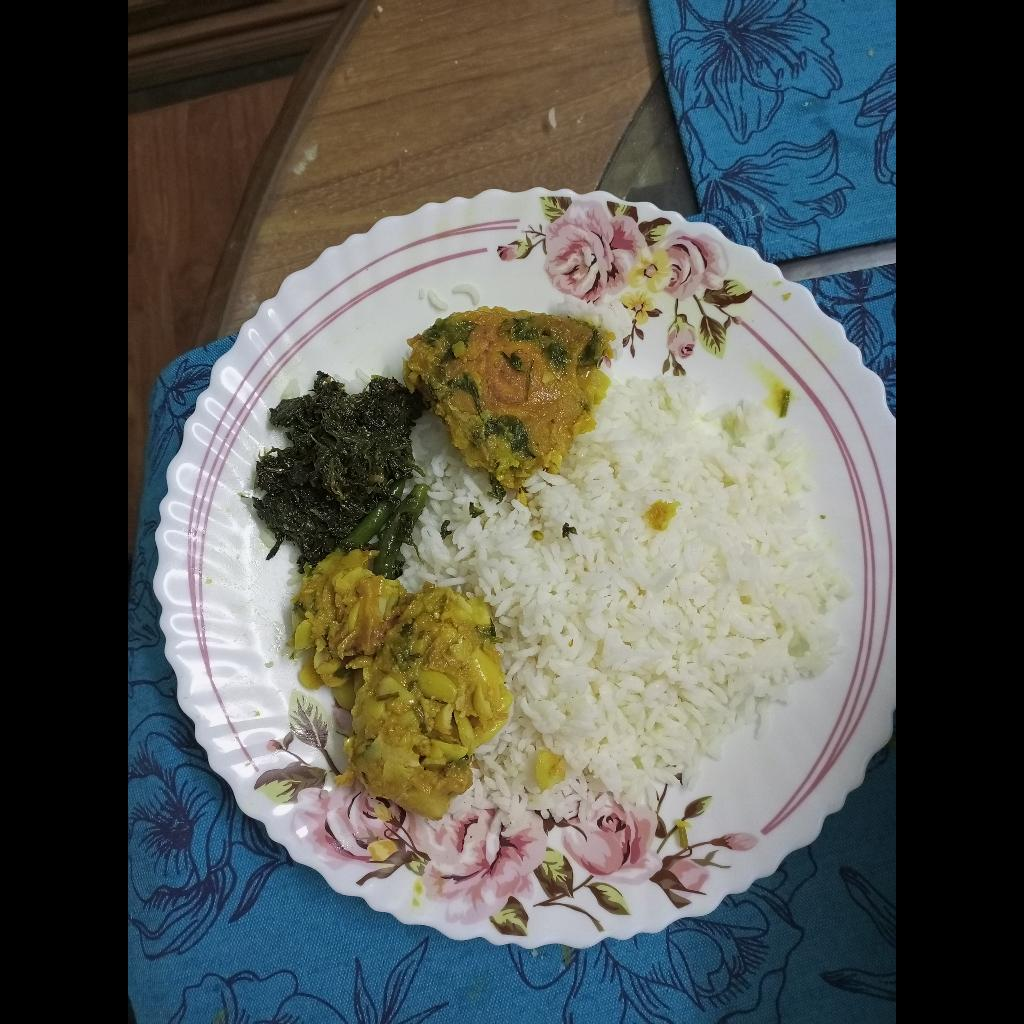fish: (405, 307, 606, 492)
khichuri: (286, 544, 508, 820)
rice: (407, 379, 853, 830)
shak: (250, 369, 427, 570)
